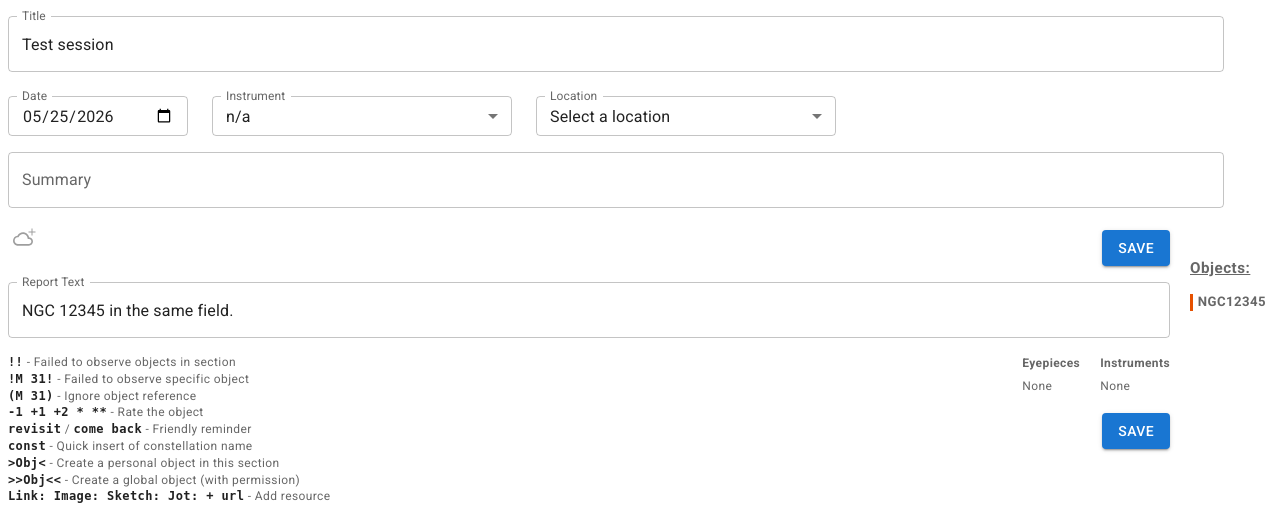
explains unmatched identifiers in the object tooltip
Hover over the text "NGC12345".
mouse_move(1232, 302)  # box [1198,294,1266,309]
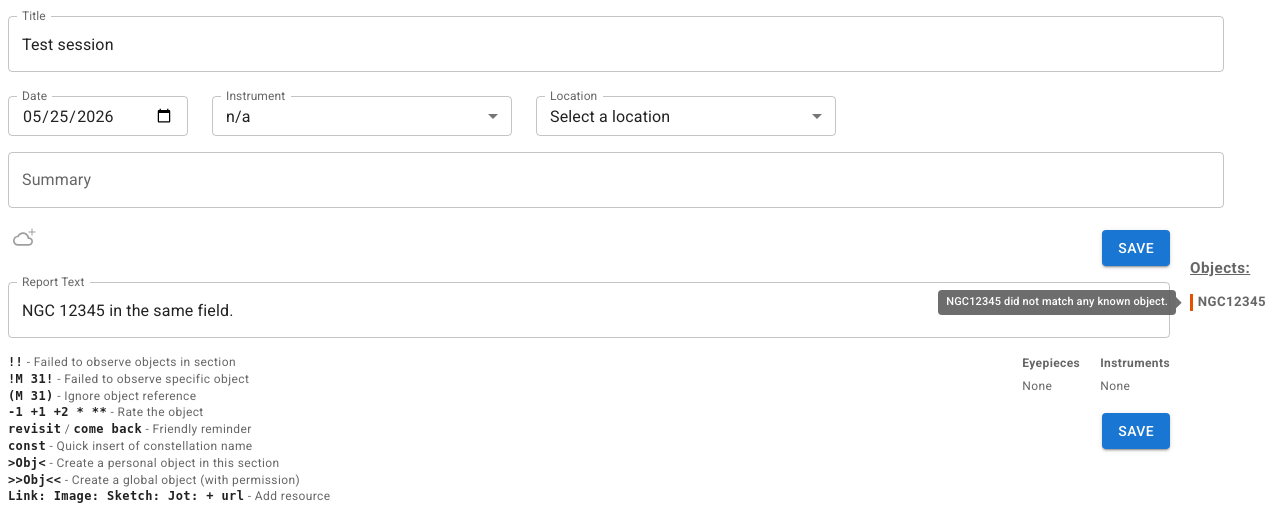
Now the text "NGC12345 did not match any known object." is shown, box [938,290,1176,314]
